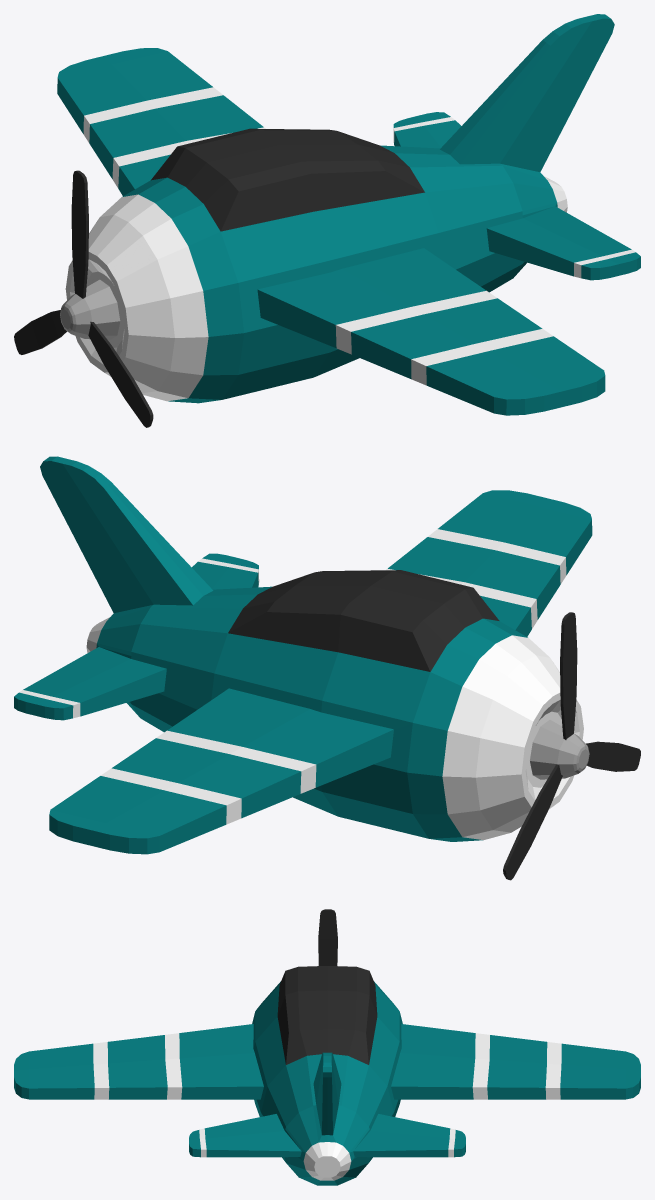
3 views of the same model, one above another, from view 1: azimuth 30°, elevation 25°; view 2: azimuth 150°, elevation 25°; view 3: azimuth 270°, elevation 25° (orthographic). The views are drawn at different scales.
Visible parts, largest first — view 1: Plane_B25, Plane_B25 Fan; view 2: Plane_B25, Plane_B25 Fan; view 3: Plane_B25, Plane_B25 Fan.
Boxes of the visible parts, x1,y1,x2,y2 form: Plane_B25: [57, 14, 640, 415]; Plane_B25 Fan: [14, 170, 153, 427]; Plane_B25: [14, 456, 592, 854]; Plane_B25 Fan: [503, 612, 640, 880]; Plane_B25: [14, 966, 640, 1185]; Plane_B25 Fan: [318, 909, 337, 965].
Size of the model in its own units: 3.87 by 1.87 by 5.64.
